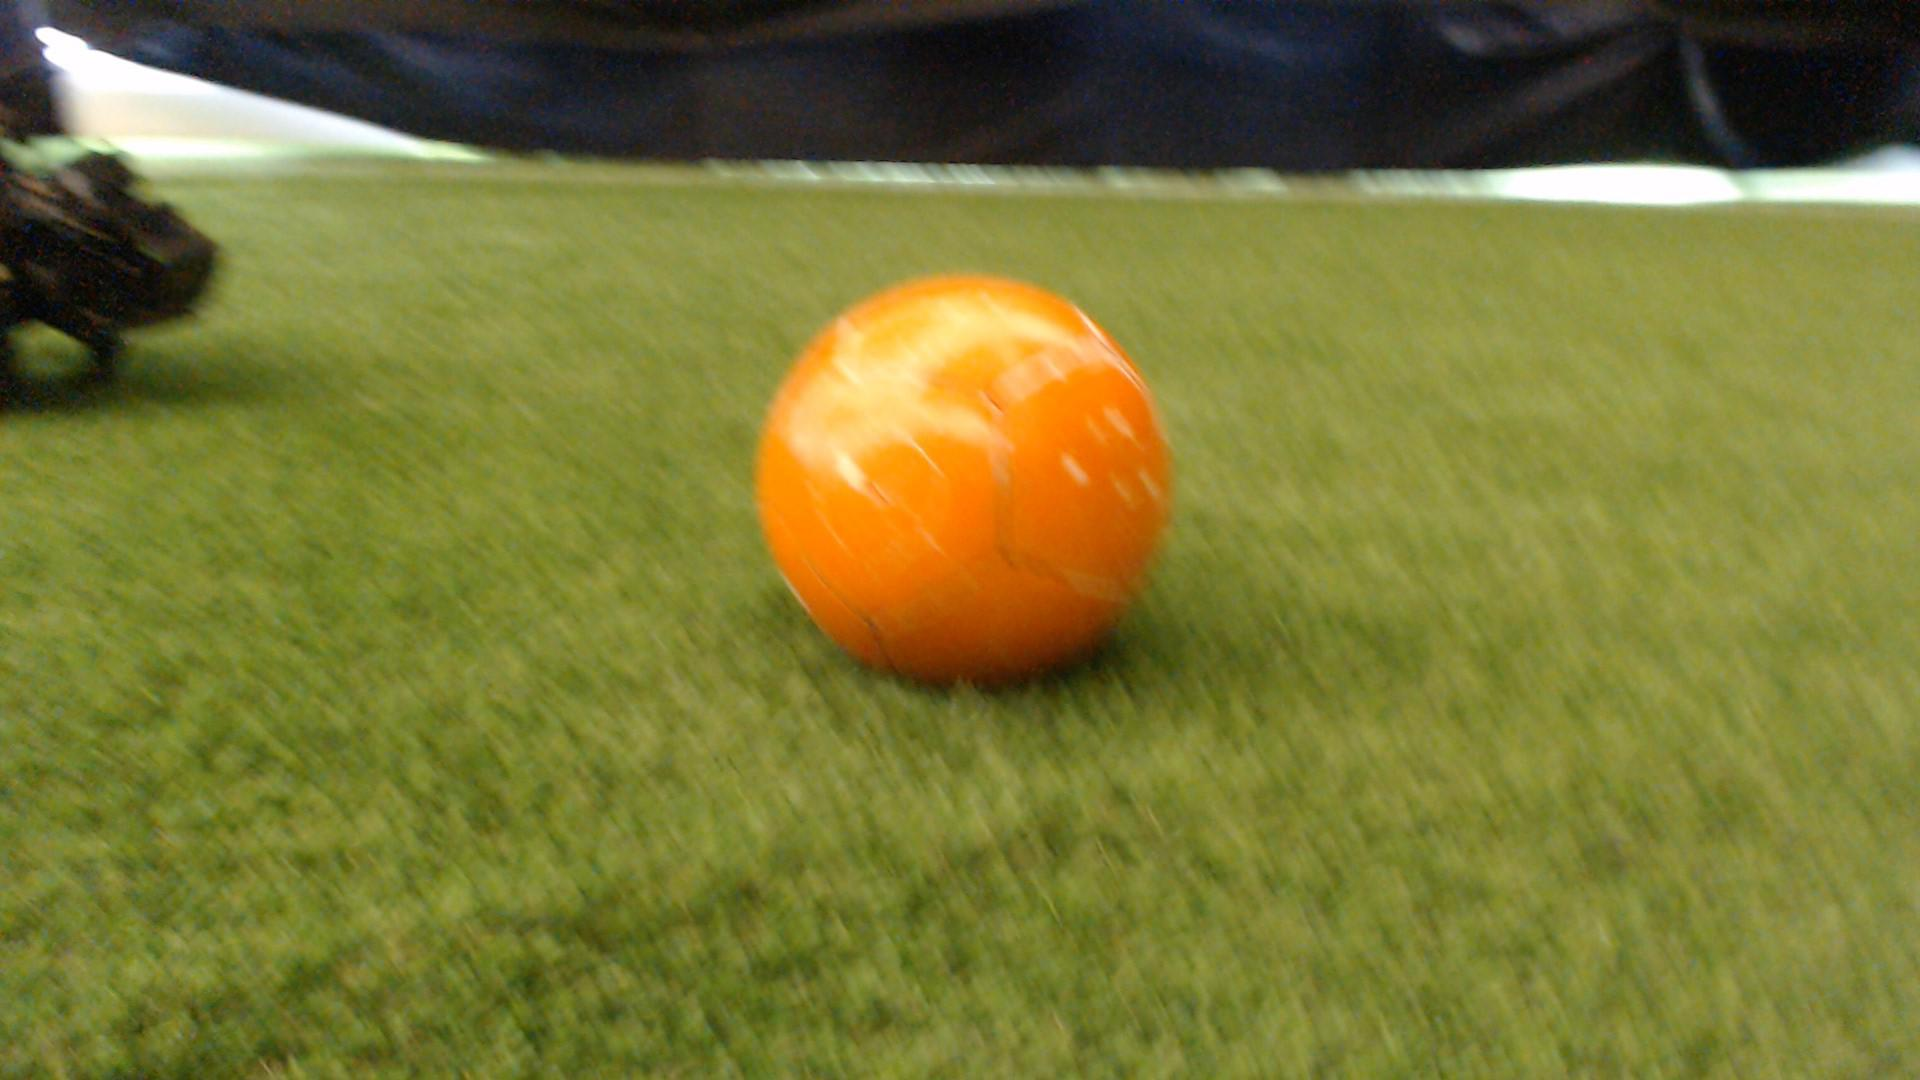bola: (715, 232, 1229, 728)
